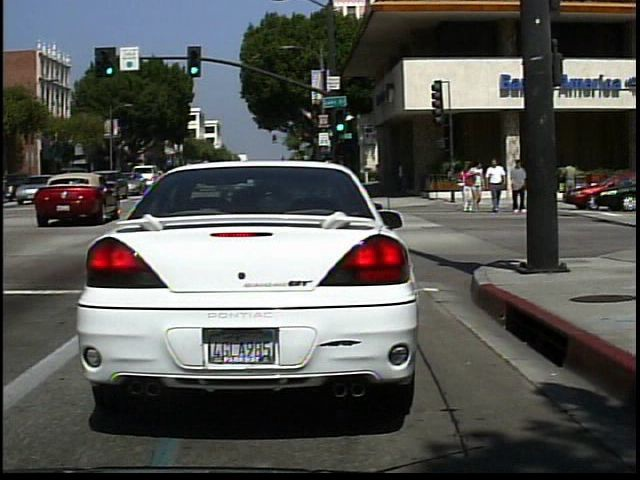person: (558, 156, 584, 206), (486, 157, 508, 214), (508, 156, 527, 211), (459, 163, 477, 214), (474, 159, 488, 211)
